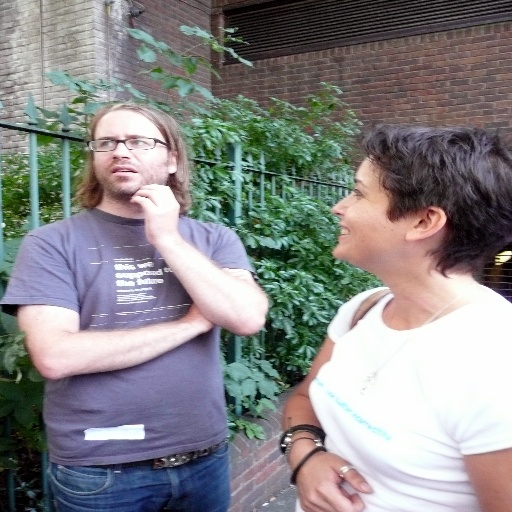hand: (297, 443, 379, 506), (127, 182, 180, 242), (186, 266, 226, 331)
